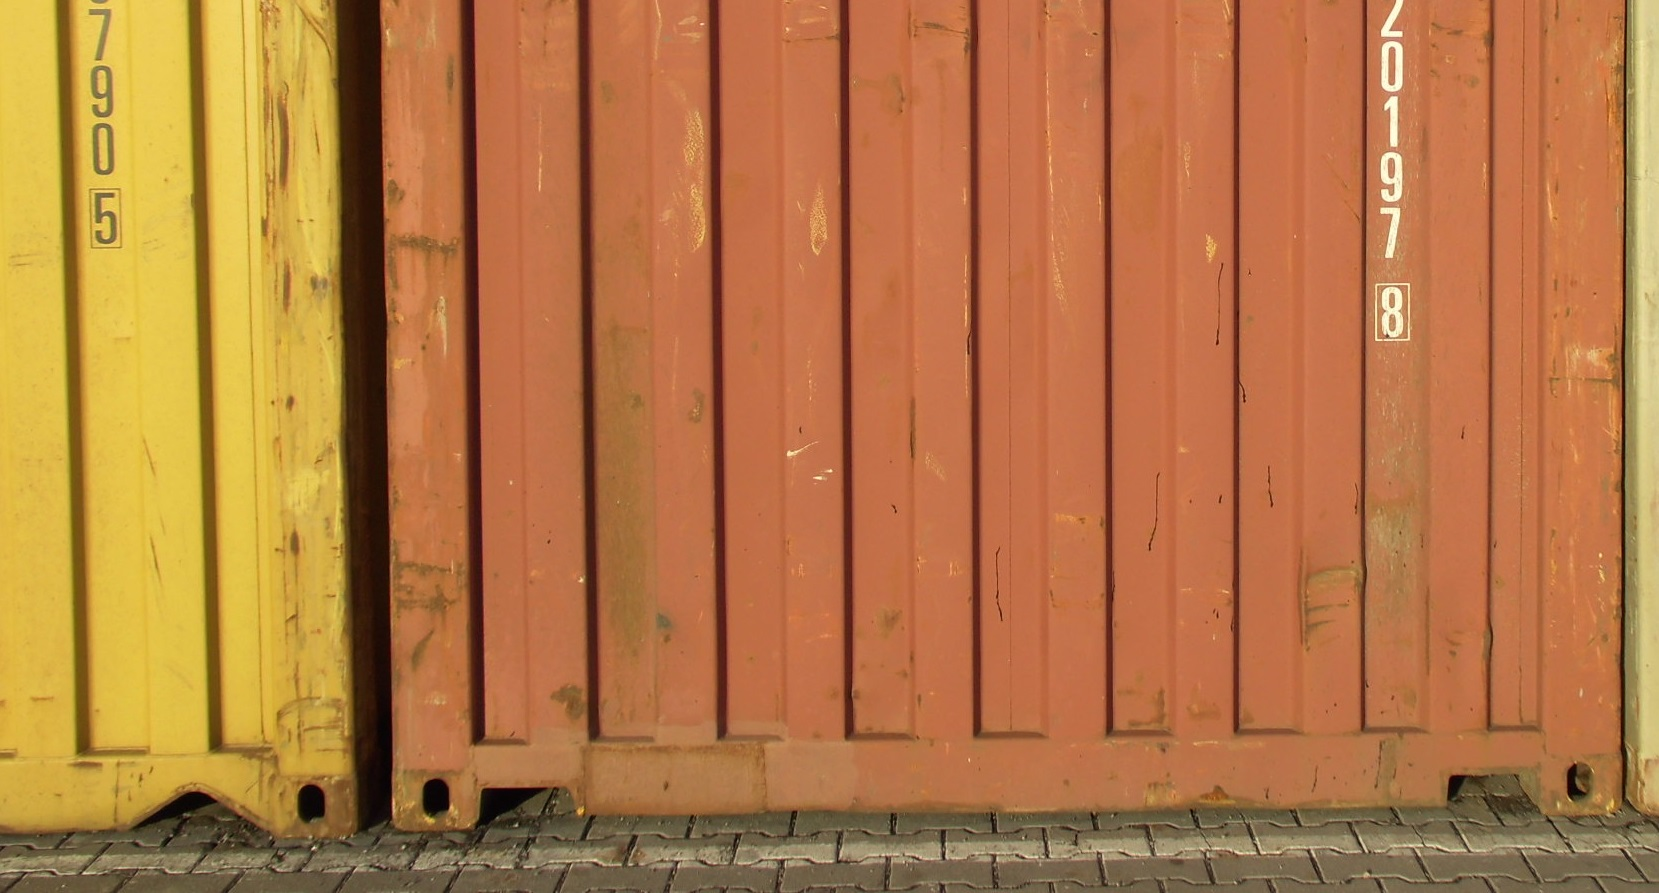container_no_door: (370, 1, 1612, 841)
